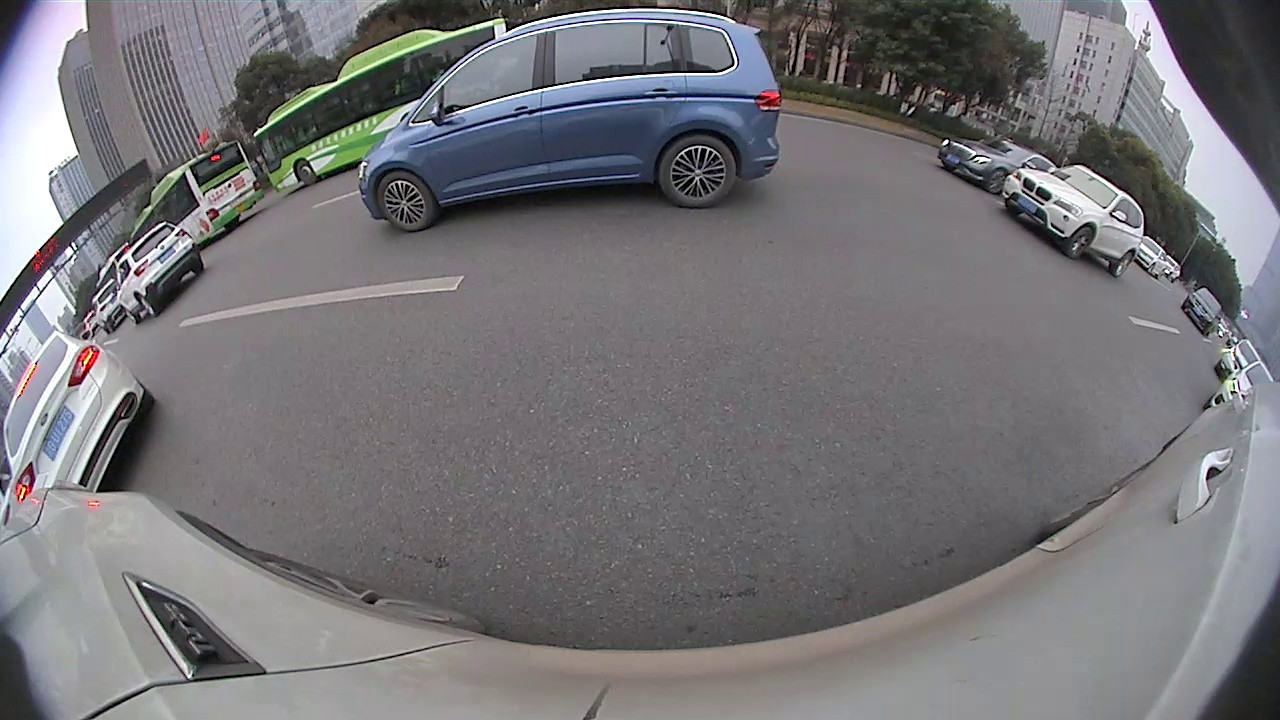bus: (247, 11, 530, 197)
car: (358, 7, 784, 235), (4, 326, 159, 489), (1003, 163, 1150, 279), (111, 220, 208, 324), (939, 133, 1059, 197)
front: (377, 168, 435, 233), (1067, 226, 1095, 259), (295, 158, 318, 186), (986, 166, 1008, 194)
rear: (655, 134, 739, 208), (1114, 249, 1134, 277)
